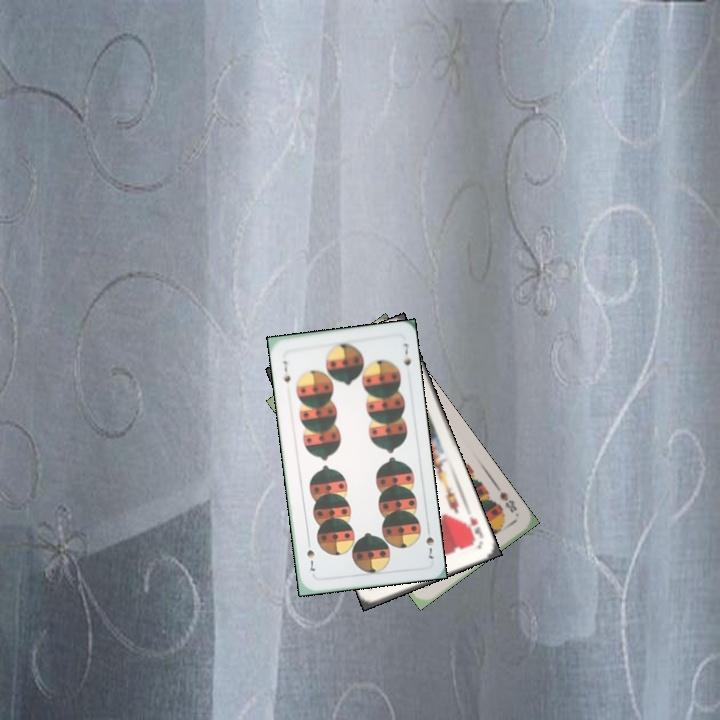HK: (465, 512, 486, 541)
S7: (422, 533, 438, 563), (279, 357, 293, 385)
S8: (493, 483, 520, 516)
